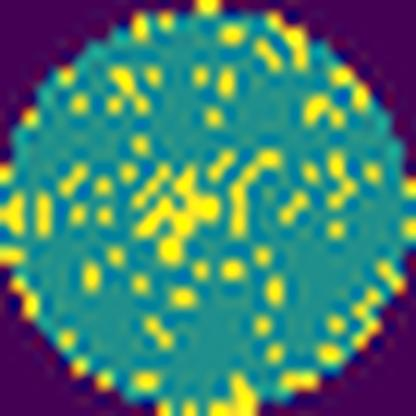Center: (134, 141, 280, 266)
